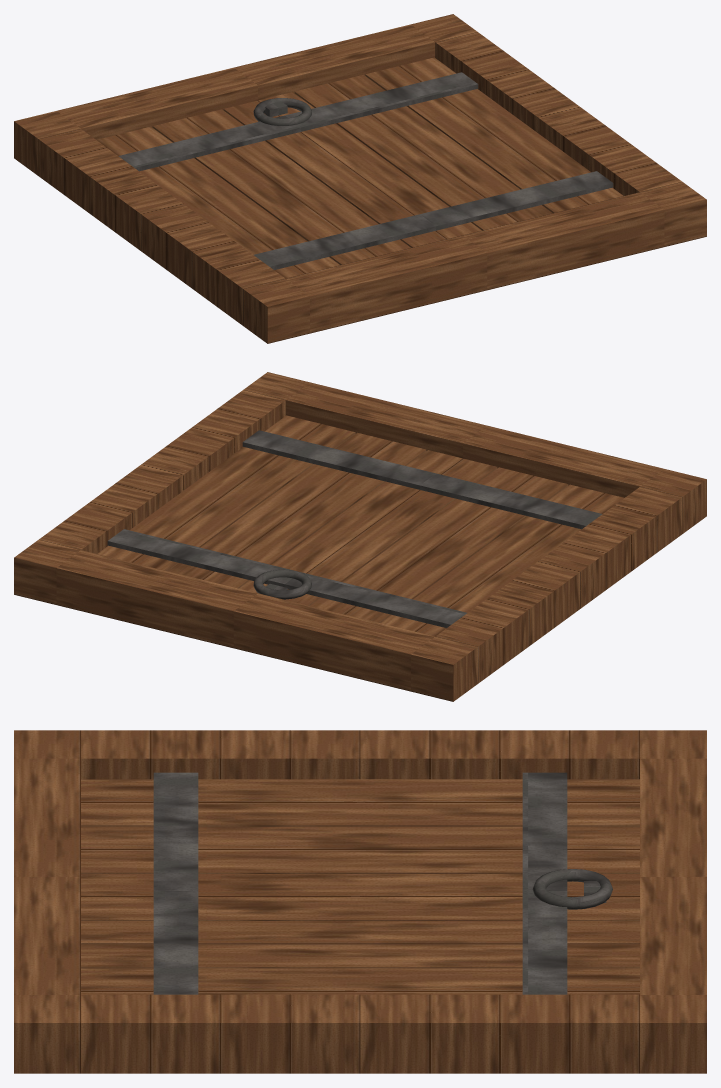
Rendered from trapdoor.glb.
3 views of the same model, one above another, from view 1: azimuth 30°, elevation 25°; view 2: azimuth 150°, elevation 25°; view 3: azimuth 270°, elevation 25° (orthographic). The views are drawn at different scales.
Visible parts, largest first — view 1: Frame, Leaf; view 2: Frame, Leaf; view 3: Leaf, Frame.
Boxes of the visible parts, <box> form: Frame: <box>14,14,706,343</box>; Leaf: <box>97,57,623,278</box>; Frame: <box>14,372,706,701</box>; Leaf: <box>97,415,623,636</box>; Leaf: <box>81,772,639,994</box>; Frame: <box>14,730,706,1073</box>.
Bounding box in the file's own units: 1.24 × 0.1 × 1.24.
Materials: 3 (3 with a texture image).
